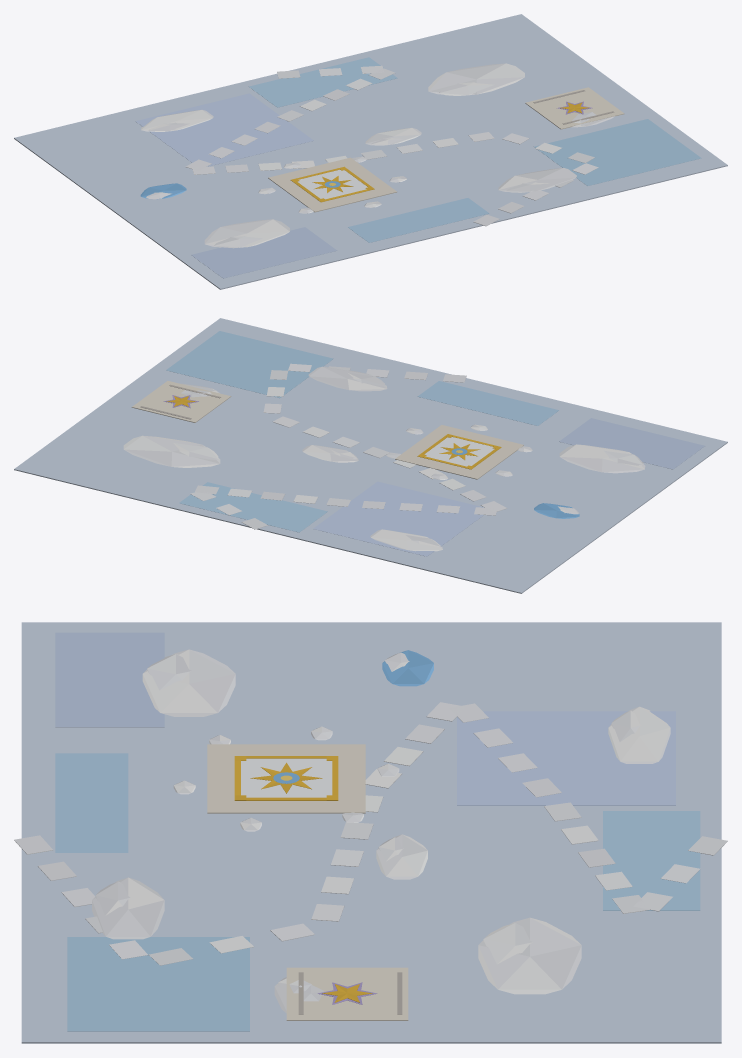
The model's file is Decor_CloudTemple_Ground.fbx.
The picture shows the model from 3 angles, top to bottom: view 1: azimuth 30°, elevation 25°; view 2: azimuth 150°, elevation 25°; view 3: azimuth 270°, elevation 25°; orthographic projection. The views are drawn at different scales.
Visible parts, largest first — view 1: Ground_Body; view 2: Ground_Body; view 3: Ground_Body.
Part boxes in pixels (<box>): Ground_Body: <box>14,14,727,289</box>; Ground_Body: <box>14,318,727,593</box>; Ground_Body: <box>14,622,727,1043</box>.
Bounding box in the file's own units: 160 × 0.58 × 115.
